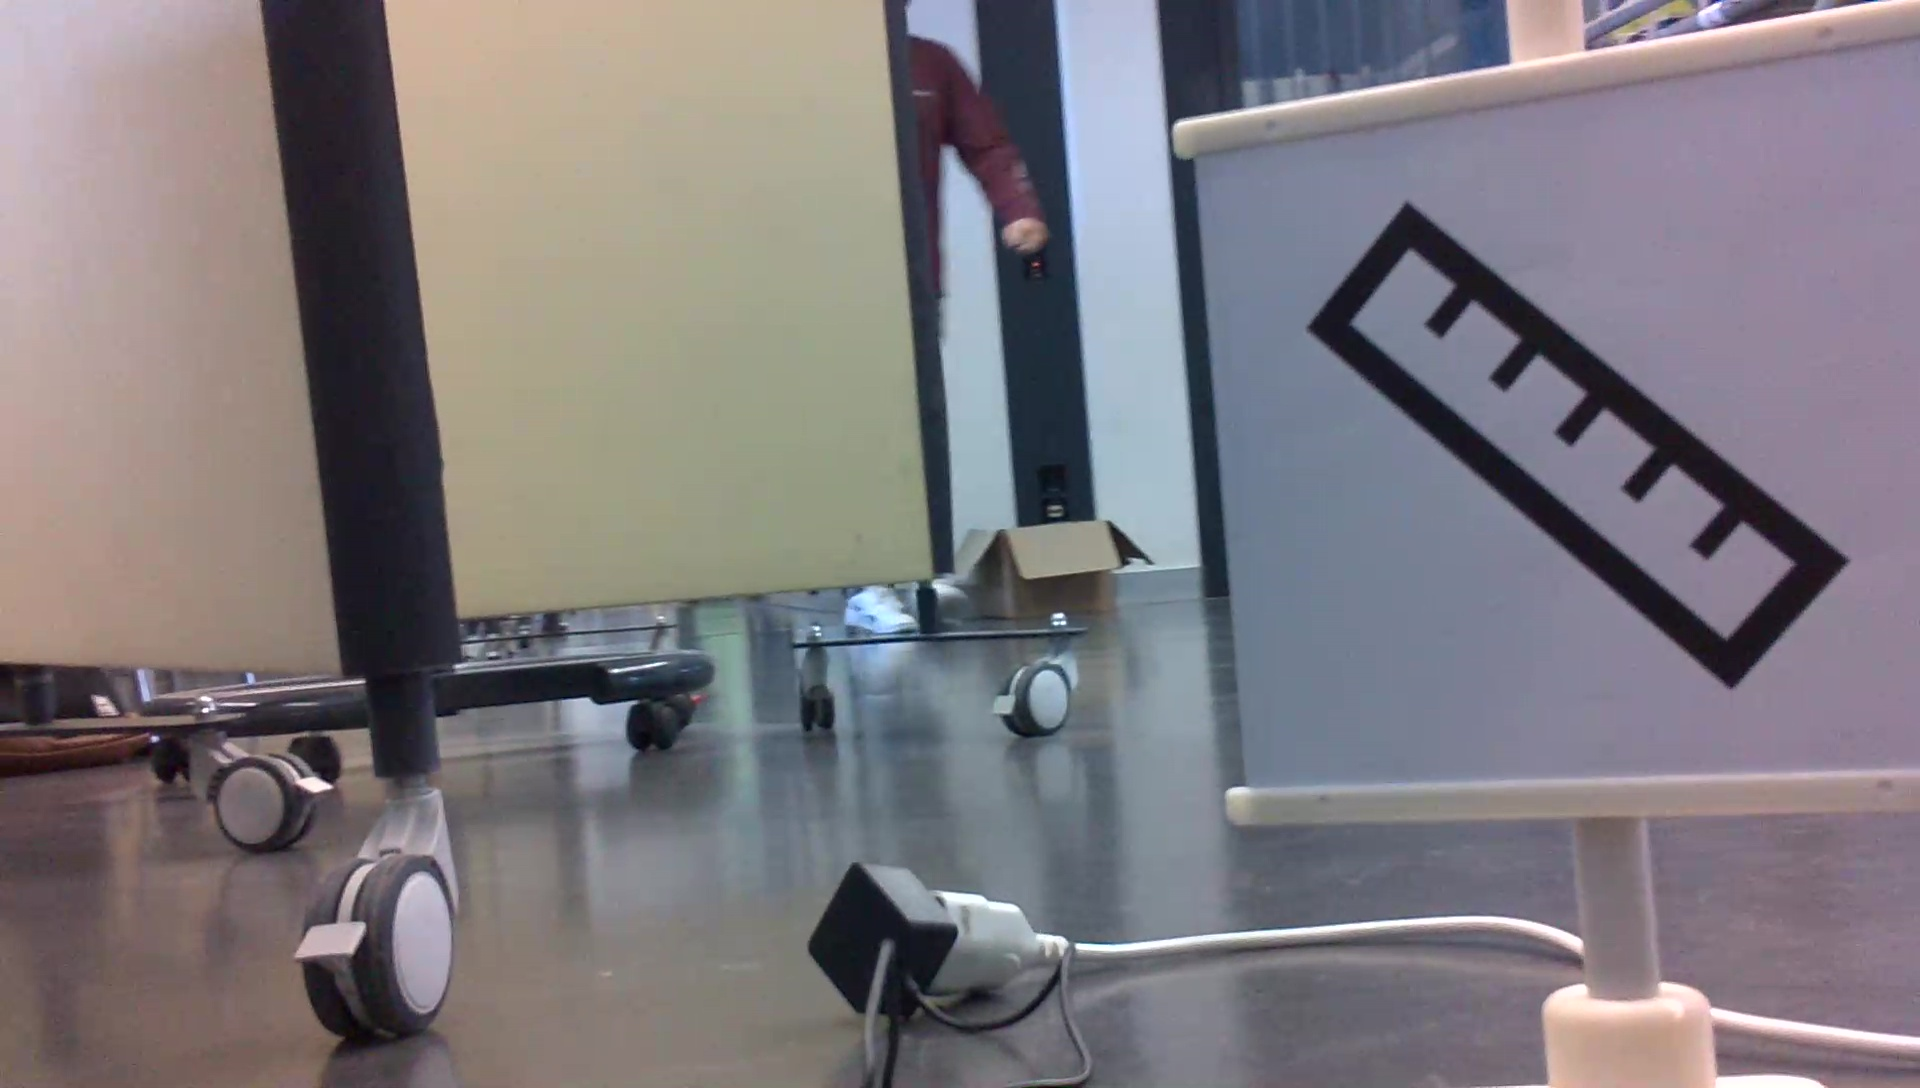ruler: (1299, 203, 1851, 698)
